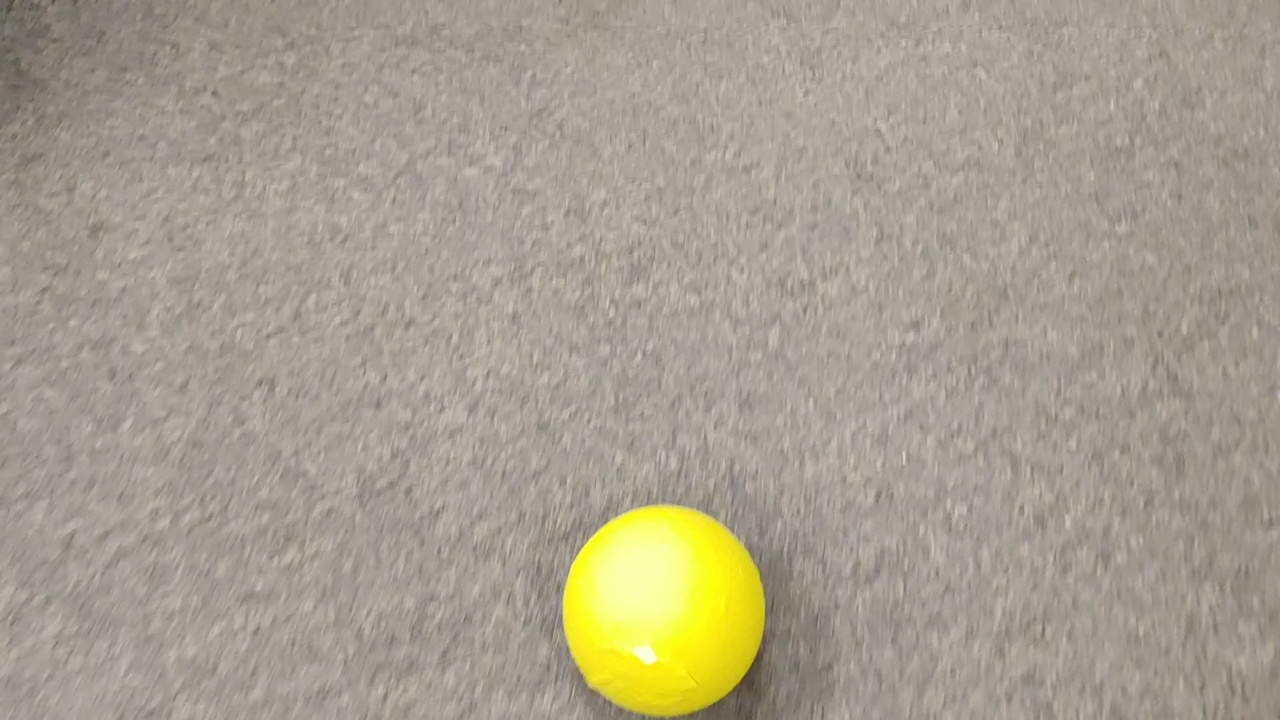Ball: (562, 504, 768, 718)
